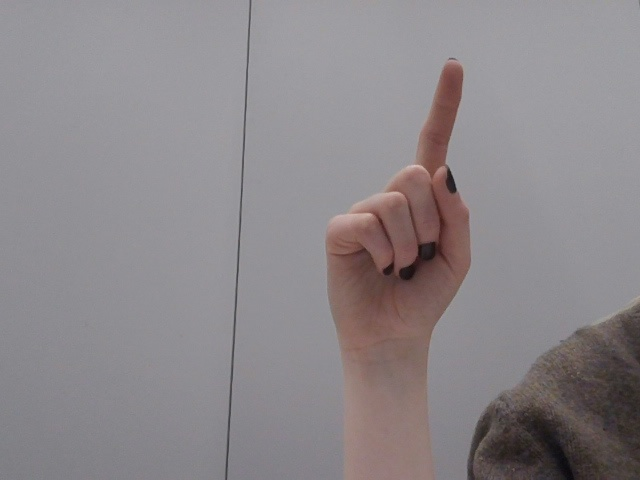up: (283, 35, 496, 359)
